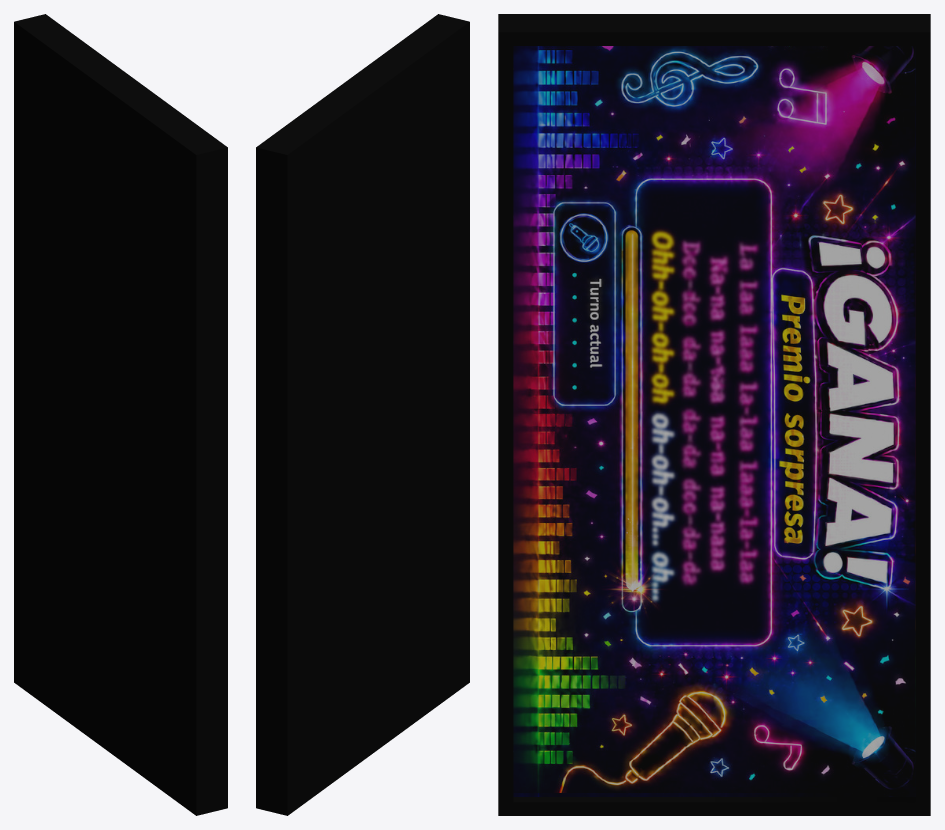
Rendered from PantallaKaraoke4.obj.
3 renders of one model, left to right at view 1: azimuth 30°, elevation 25°; view 2: azimuth 150°, elevation 25°; view 3: azimuth 270°, elevation 25°, orthographic. The views are drawn at different scales.
Visible parts, largest first — view 1: ColumDerS1.001; view 2: ColumDerS1.001; view 3: ColumDerS1.001.
Boxes of the visible parts, x1,y1,x2,y2 form: ColumDerS1.001: [14, 14, 227, 815]; ColumDerS1.001: [256, 14, 469, 815]; ColumDerS1.001: [498, 14, 930, 815].
Bounding box in the file's own units: 0.2 × 4 × 2.
